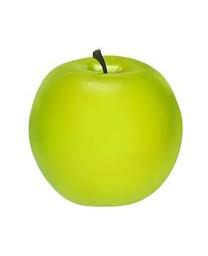apple: (28, 50, 184, 205)
